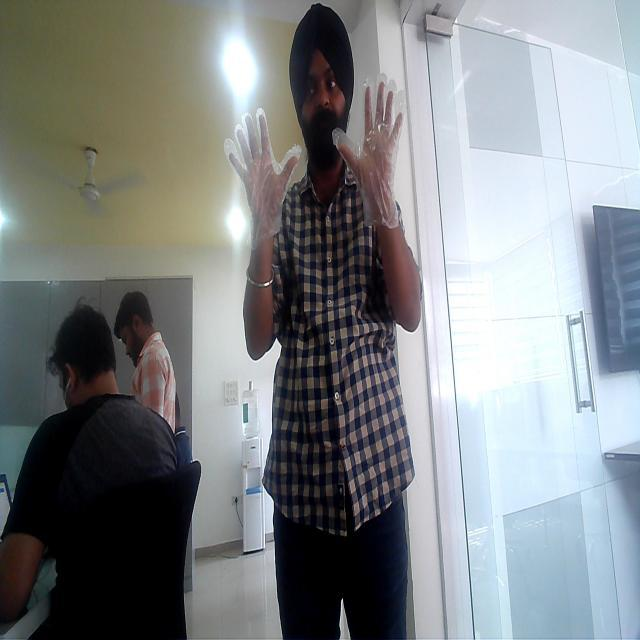with_gloves: (332, 77, 408, 232), (223, 102, 300, 240)
